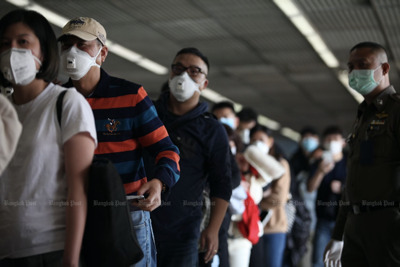with_mask: (1, 33, 38, 89), (59, 38, 93, 83), (169, 61, 201, 102), (348, 57, 380, 95), (325, 133, 346, 156), (251, 137, 272, 156), (214, 112, 236, 130), (236, 125, 255, 145), (301, 133, 320, 152)
